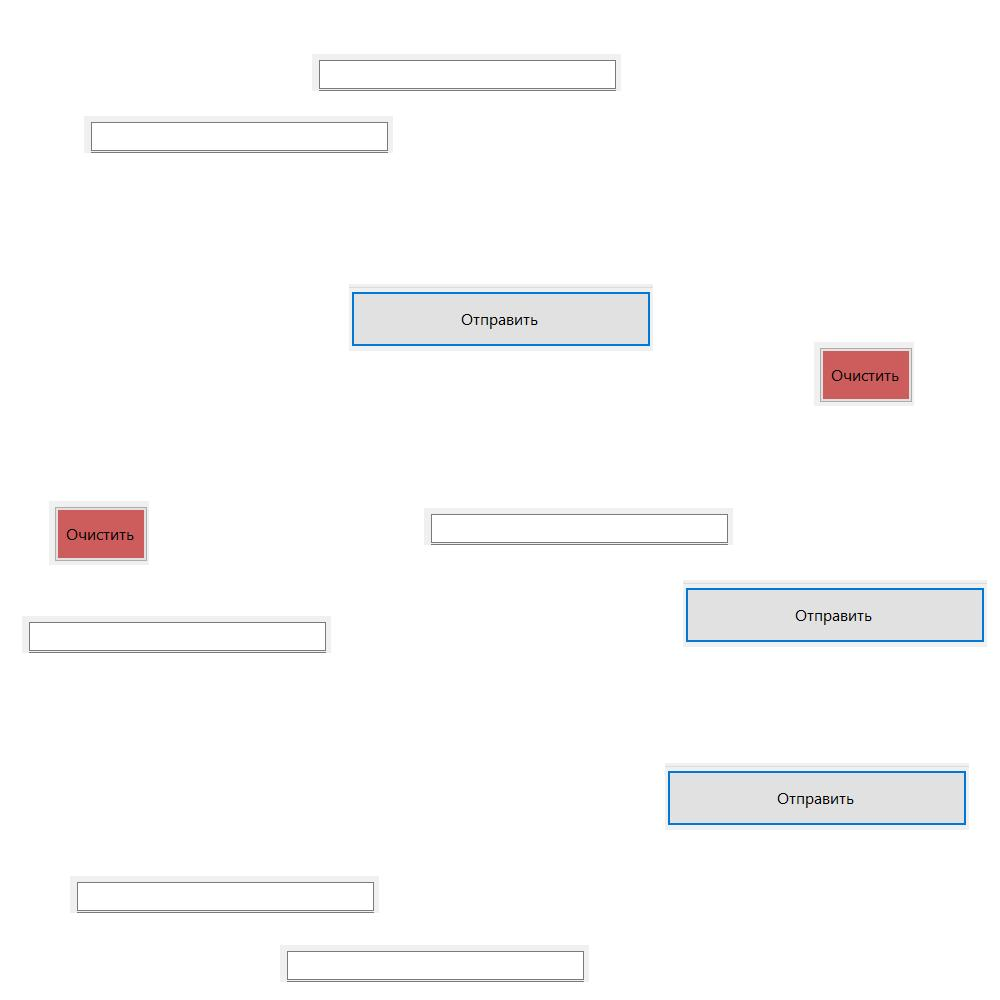Button: (683, 580, 987, 647), (349, 284, 653, 351), (665, 763, 969, 830), (49, 501, 149, 565), (814, 342, 914, 406)
EditText-: (70, 876, 379, 913), (312, 54, 621, 91), (22, 616, 331, 653), (84, 116, 393, 153), (280, 945, 589, 982), (424, 508, 733, 545)
